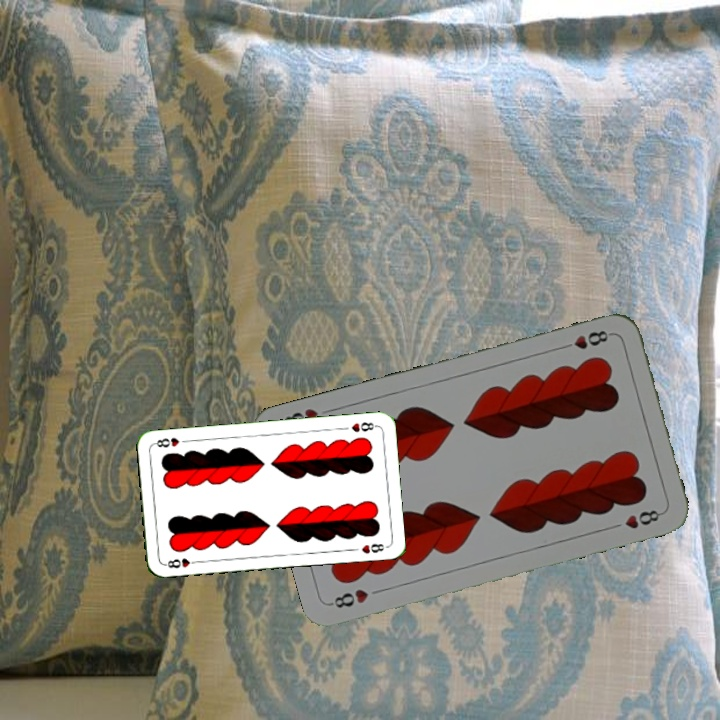H8: (557, 326, 615, 352), (326, 585, 371, 611), (161, 554, 201, 571), (347, 418, 379, 434)
